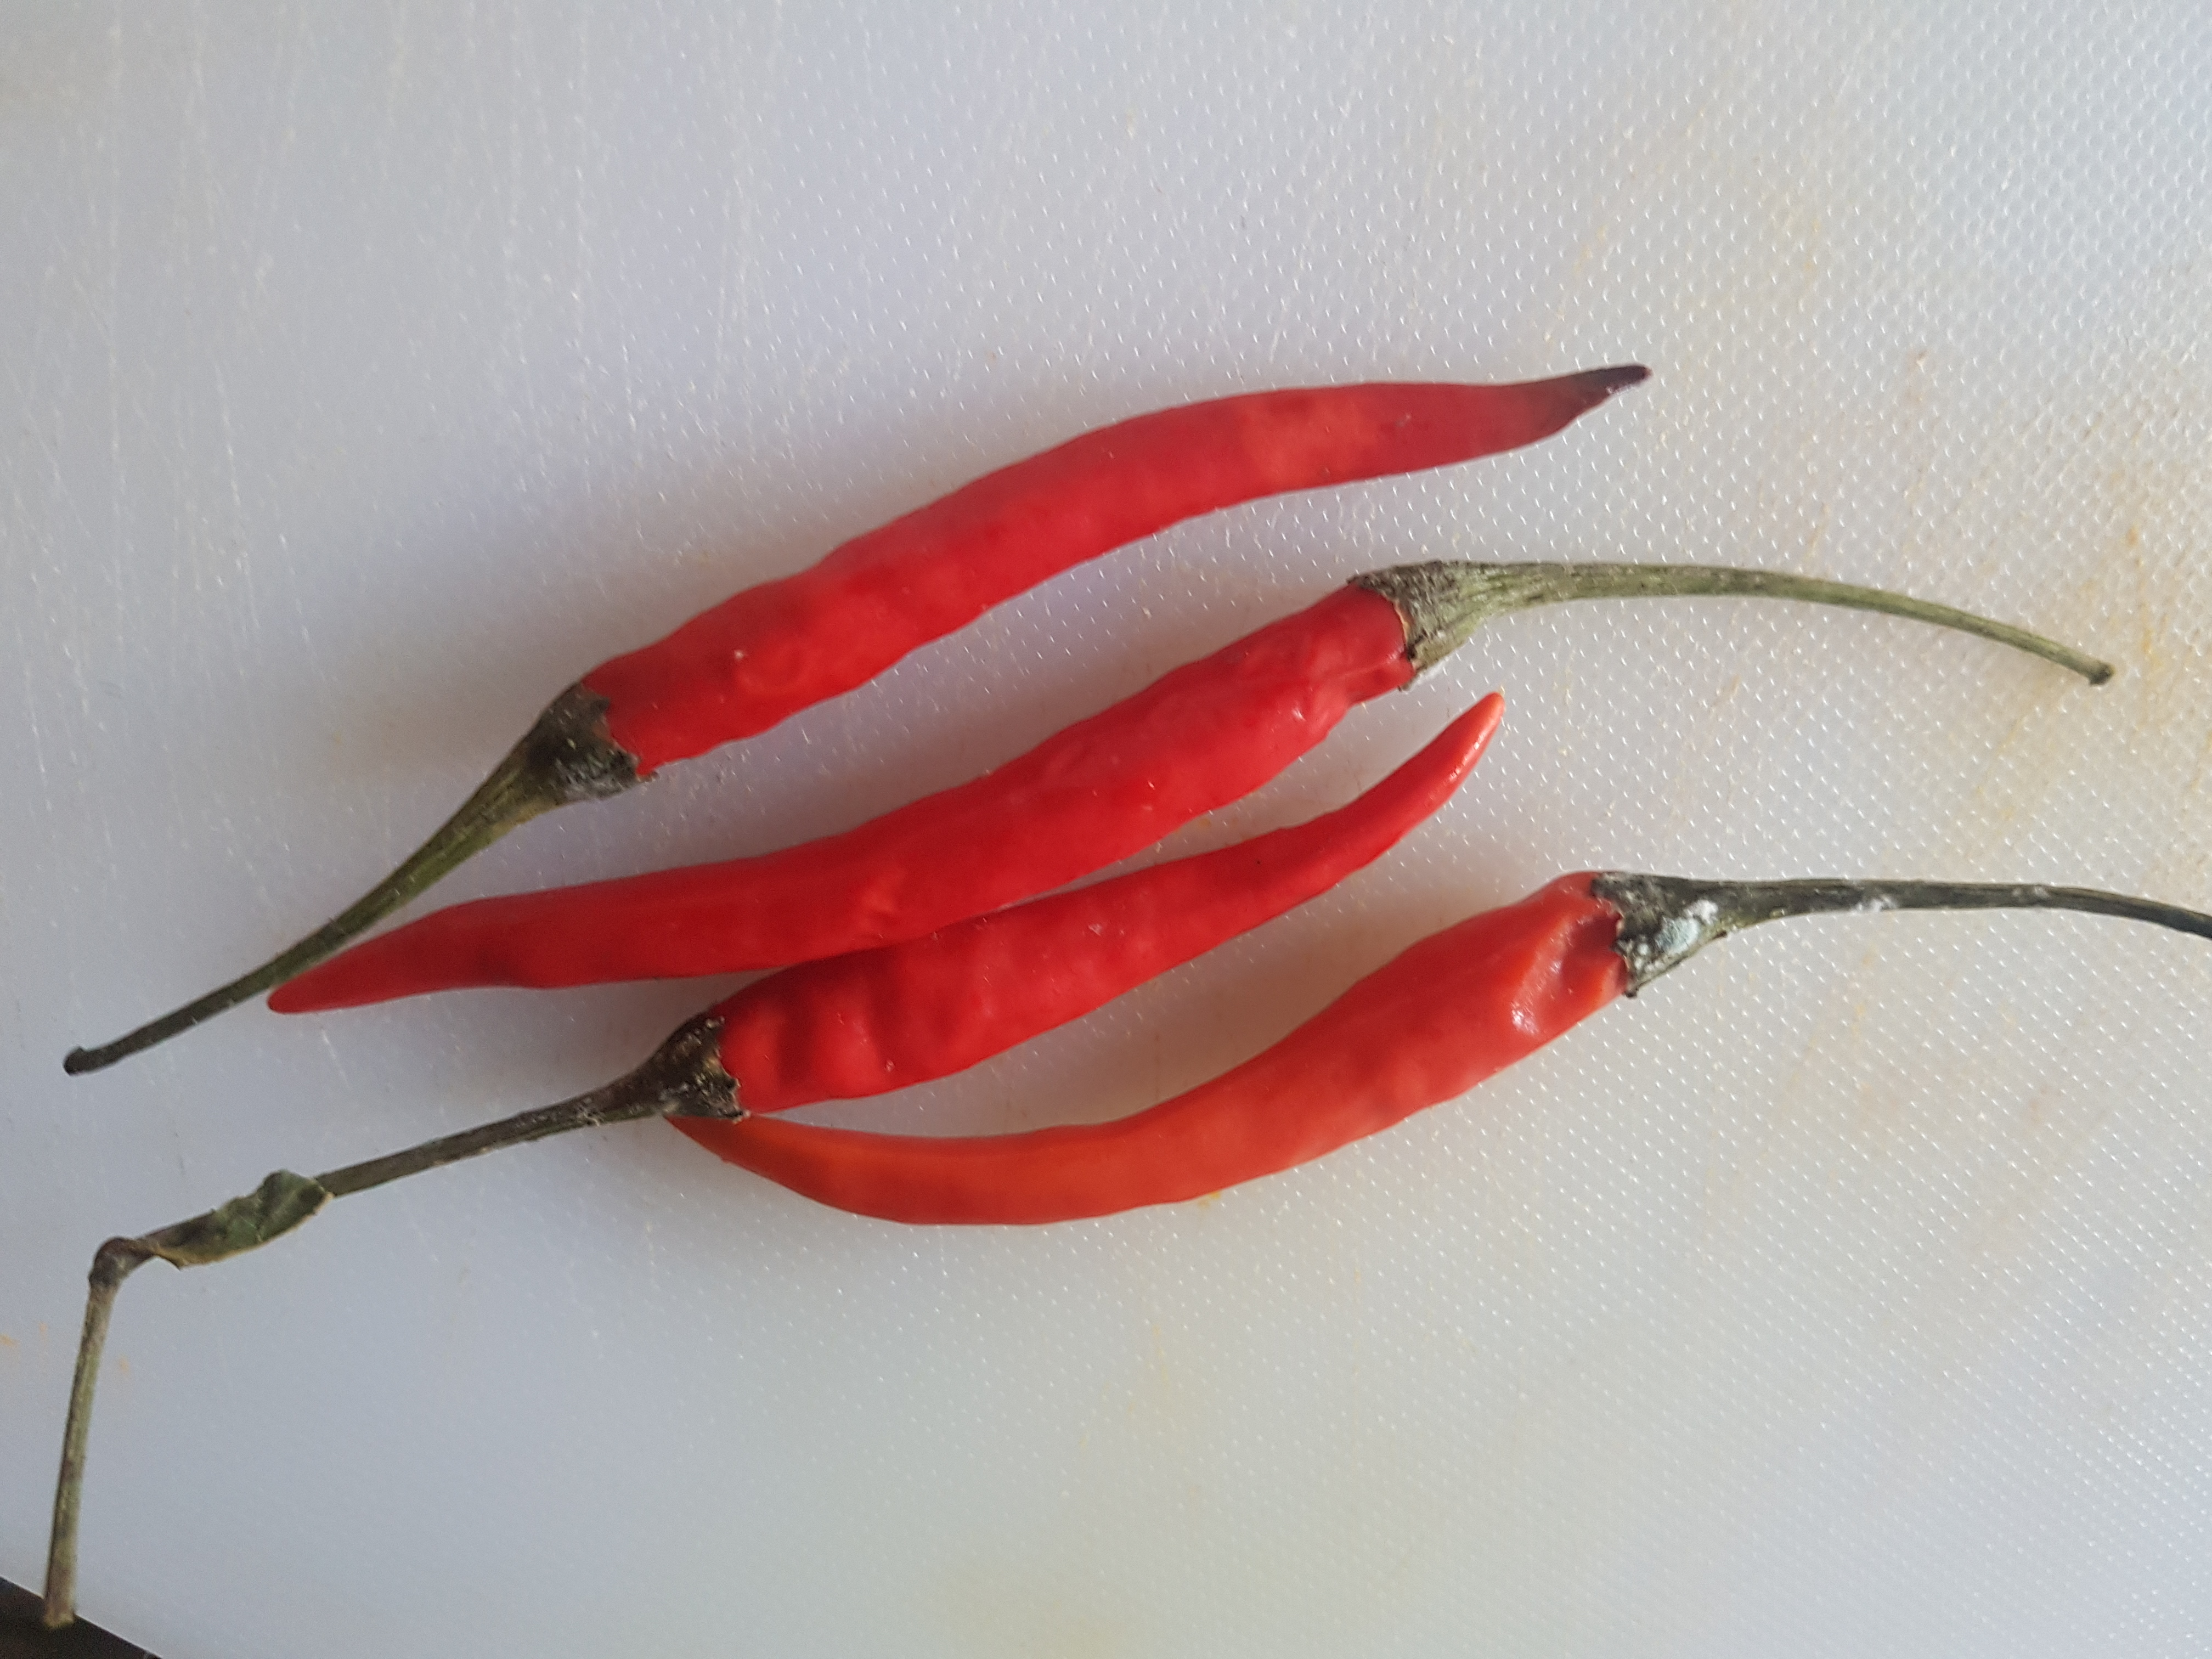Cayenne pepper: (57, 369, 2212, 1605)
